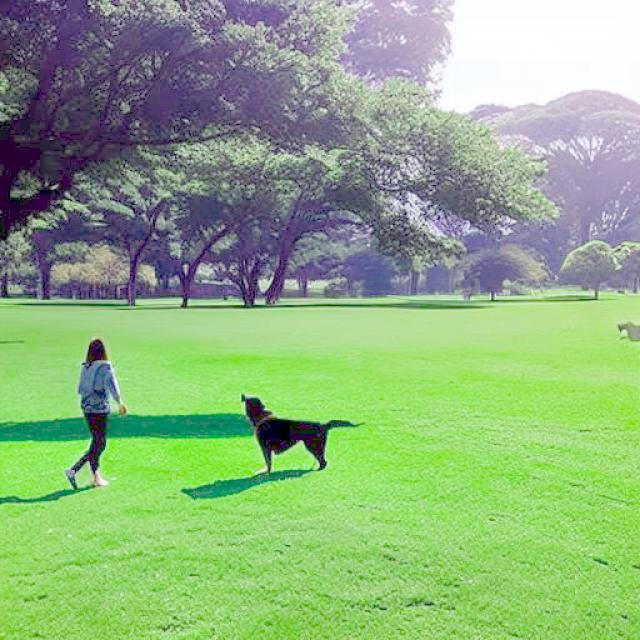Unleashed_Dog: (81, 392, 366, 477)
